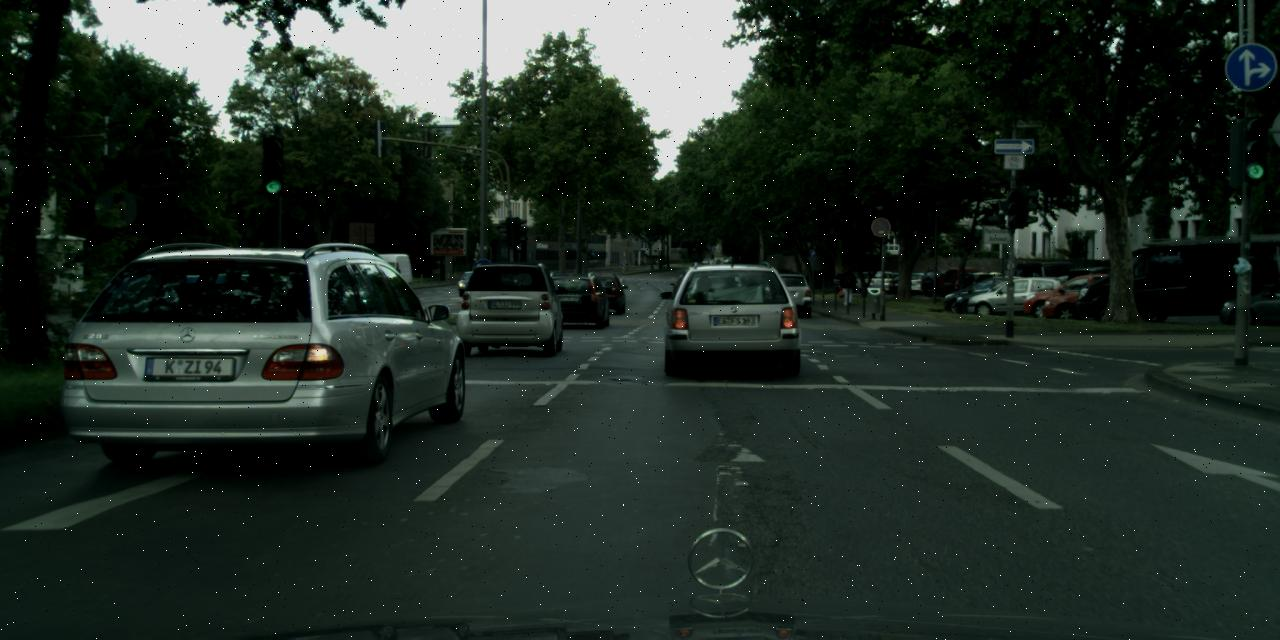ped: (840, 267, 854, 304)
